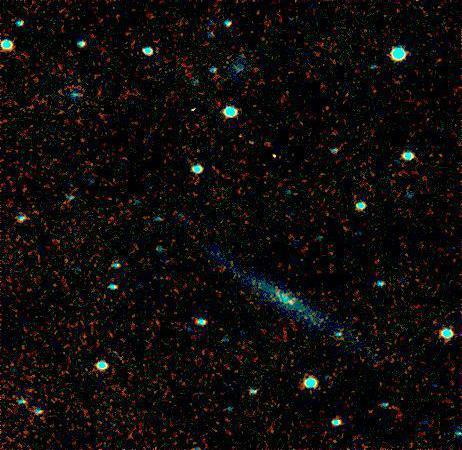star: (275, 288, 305, 318)
